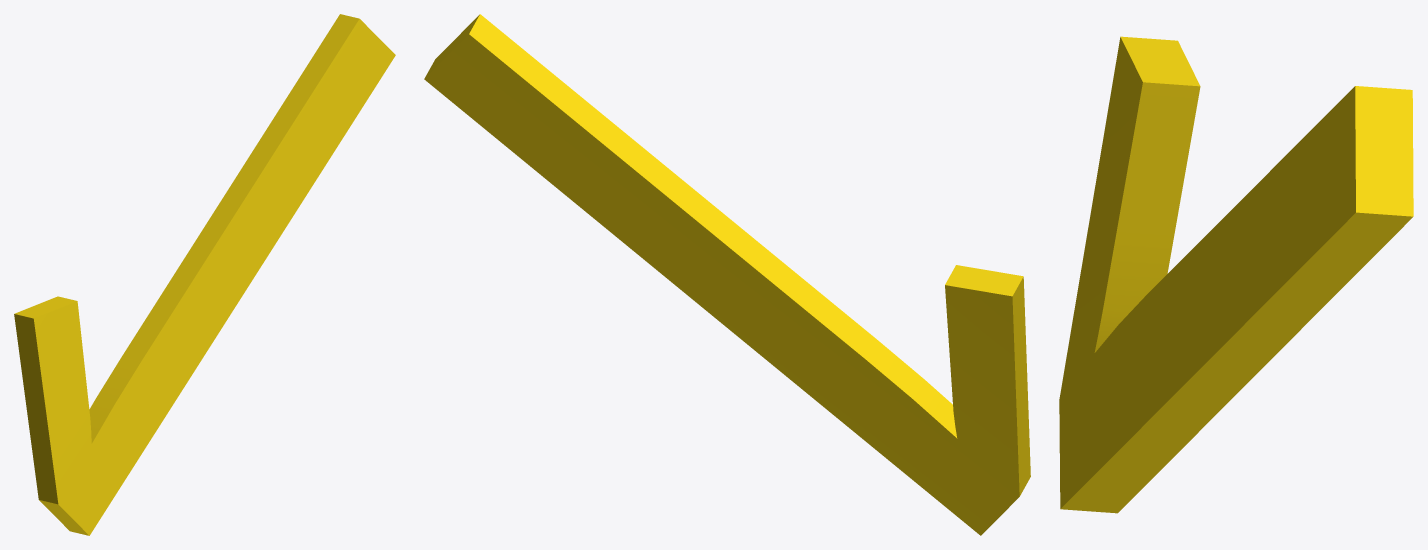
Rendered from Number_1.gltf.
The picture shows the model from 3 angles, left to right: view 1: azimuth 30°, elevation 25°; view 2: azimuth 150°, elevation 25°; view 3: azimuth 270°, elevation 25°; orthographic projection. The views are drawn at different scales.
Visible parts, largest first — view 1: Sub_4_Cell_3_1_Number_1; view 2: Sub_4_Cell_3_1_Number_1; view 3: Sub_4_Cell_3_1_Number_1.
Boxes of the visible parts, left/top/right/bottom form: Sub_4_Cell_3_1_Number_1: left=14, top=14, right=395, bottom=535; Sub_4_Cell_3_1_Number_1: left=424, top=14, right=1030, bottom=535; Sub_4_Cell_3_1_Number_1: left=1059, top=36, right=1413, bottom=513.
Bounding box in the file's own units: 0.0209 × 0.018 × 0.00754.
